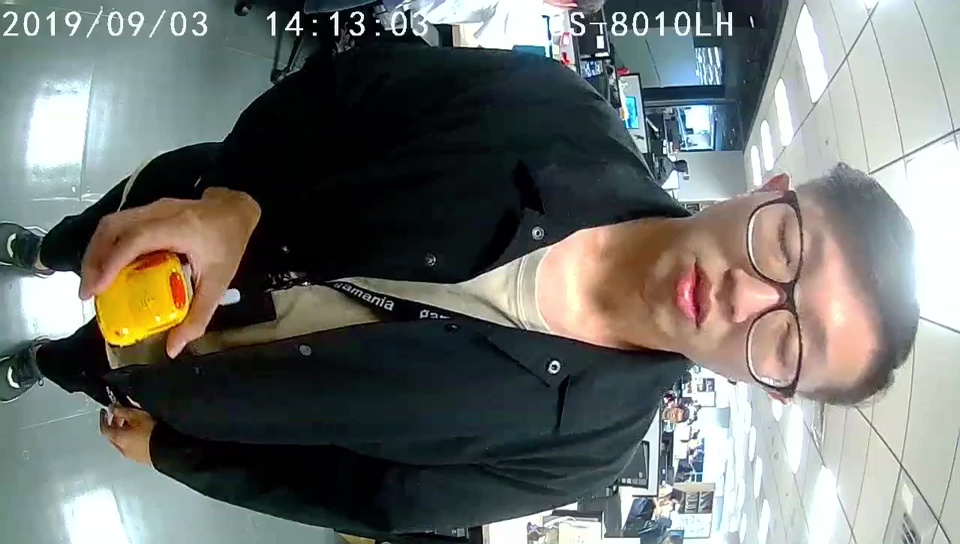car: (96, 248, 184, 345)
